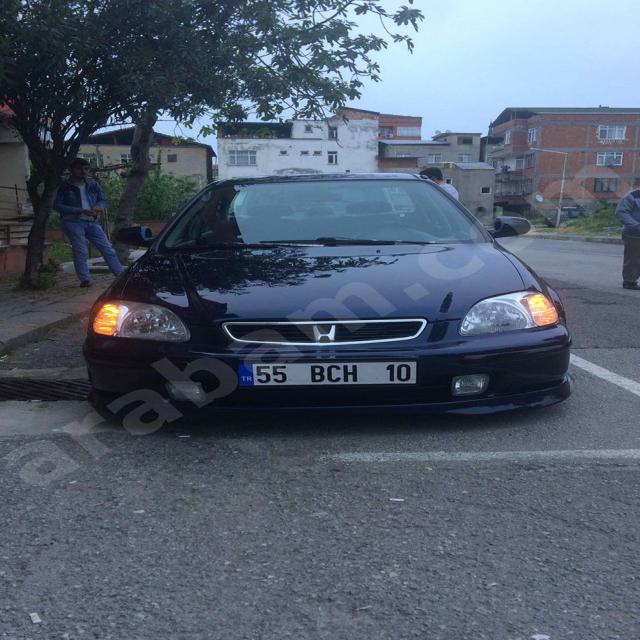license_plate: (238, 360, 419, 387)
